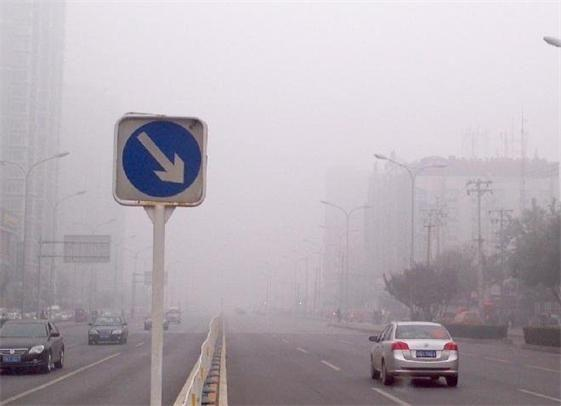car: (368, 322, 459, 386), (1, 319, 66, 373), (87, 312, 129, 345), (145, 310, 169, 331), (164, 306, 182, 324)
